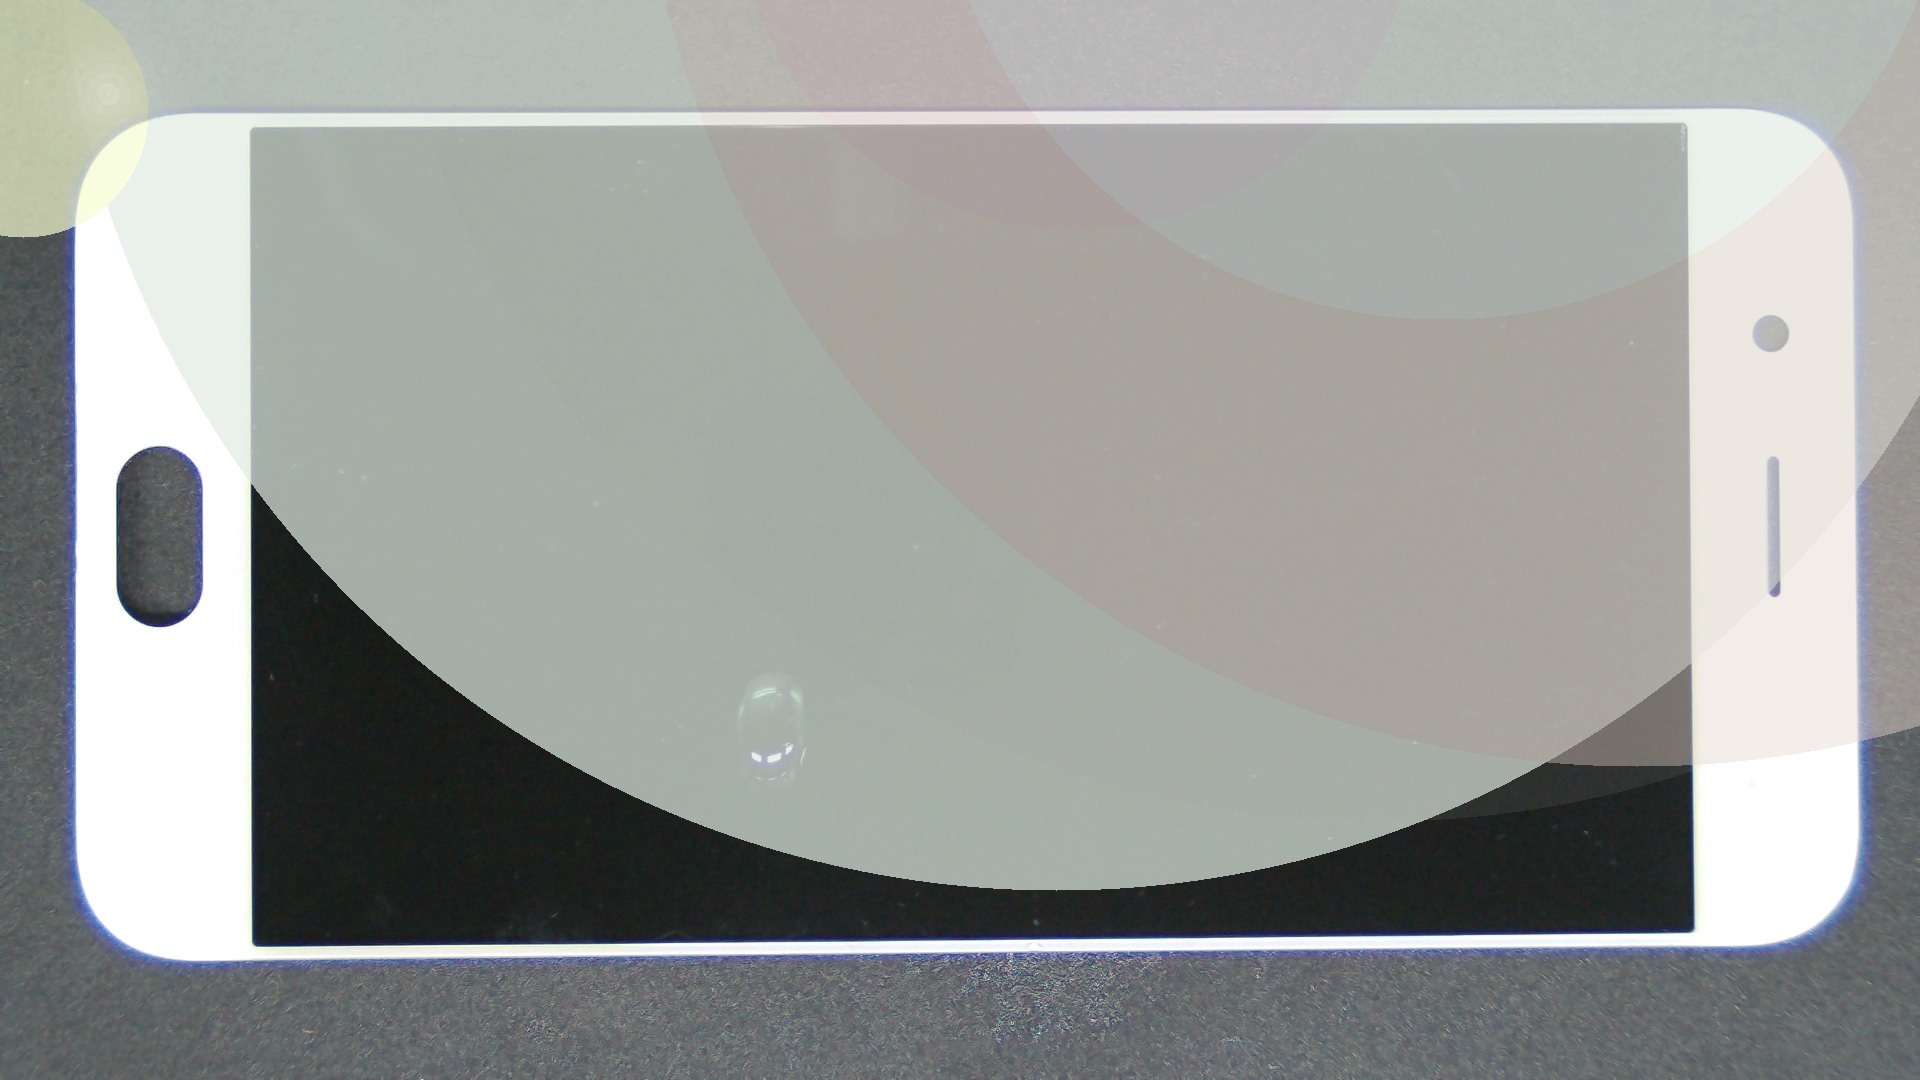oil: (386, 335, 1159, 1009)
